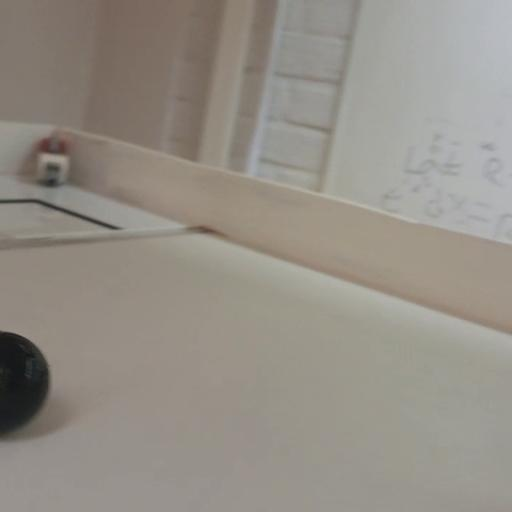dead: (0, 327, 51, 435)
